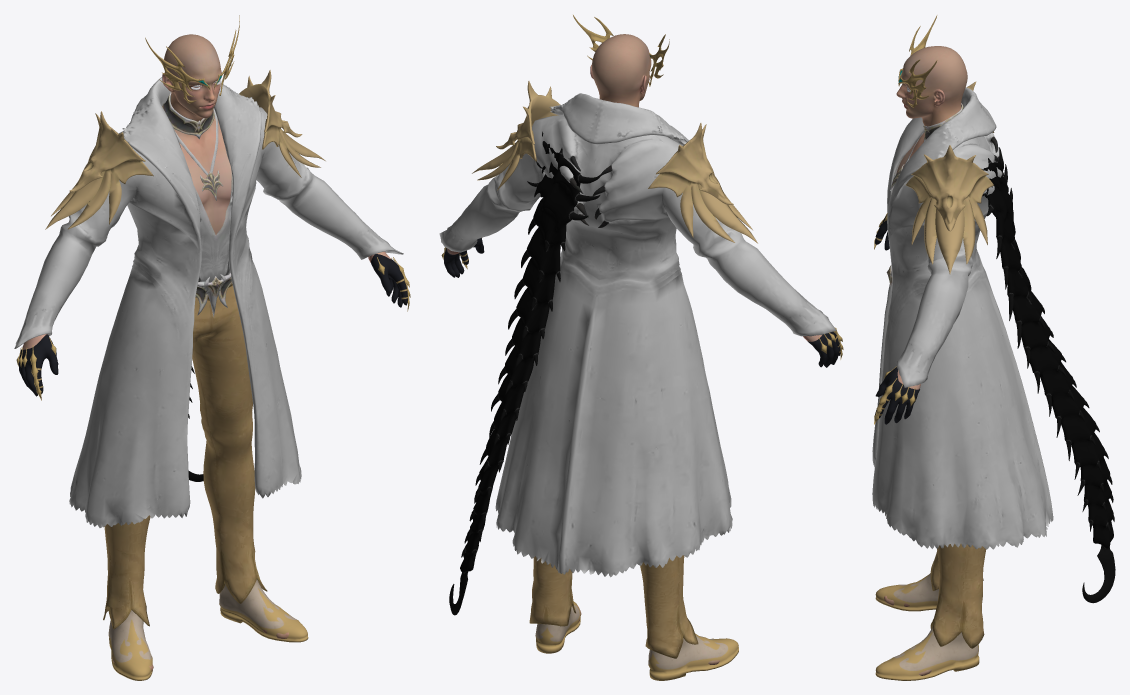
3 renders of one model, left to right at view 1: azimuth 30°, elevation 25°; view 2: azimuth 150°, elevation 25°; view 3: azimuth 270°, elevation 25°, orthographic. The views are drawn at different scales.
Visible parts, largest first — view 1: GM_0059_T05_Body, GM_0059_T05_Pants, GM_0059_T05_Shoulder, GM_0059_T05_Boots, GM_BaseHead, GM_0059_T05_Glove, GM_0059_T05_Helmet; view 2: GM_0059_T05_Body, GM_0059_T05_Cape, GM_0059_T05_Shoulder, GM_0059_T05_Pants, GM_0059_T05_Boots, GM_BaseHead, GM_0059_T05_Glove, GM_0059_T05_Helmet; view 3: GM_0059_T05_Body, GM_0059_T05_Cape, GM_0059_T05_Shoulder, GM_0059_T05_Pants, GM_0059_T05_Boots, GM_BaseHead, GM_0059_T05_Glove, GM_0059_T05_Helmet.
Boxes of the visible parts, <box> form: GM_0059_T05_Body: <box>14,77,403,527</box>; GM_0059_T05_Pants: <box>103,283,288,671</box>; GM_0059_T05_Shoulder: <box>45,70,325,229</box>; GM_0059_T05_Boots: <box>108,579,308,680</box>; GM_BaseHead: <box>162,34,221,121</box>; GM_0059_T05_Glove: <box>16,254,410,400</box>; GM_0059_T05_Helmet: <box>145,15,239,103</box>; GM_0059_T05_Body: <box>439,93,836,577</box>; GM_0059_T05_Cape: <box>449,131,601,615</box>; GM_0059_T05_Shoulder: <box>472,81,757,243</box>; GM_0059_T05_Pants: <box>529,555,720,664</box>; GM_0059_T05_Boots: <box>535,601,738,680</box>; GM_BaseHead: <box>590,34,651,107</box>; GM_0059_T05_Glove: <box>441,237,843,367</box>; GM_0059_T05_Helmet: <box>573,15,669,86</box>; GM_0059_T05_Body: <box>872,87,1053,549</box>; GM_0059_T05_Cape: <box>981,147,1115,603</box>; GM_0059_T05_Shoulder: <box>906,81,994,274</box>; GM_0059_T05_Pants: <box>884,543,986,675</box>; GM_0059_T05_Boots: <box>875,573,979,680</box>; GM_BaseHead: <box>896,46,967,126</box>; GM_0059_T05_Glove: <box>874,213,919,424</box>; GM_0059_T05_Helmet: <box>898,15,937,107</box>.
Size of the model in its own units: 1.28 by 1.93 by 0.7063.
10 materials, 9 textured.
